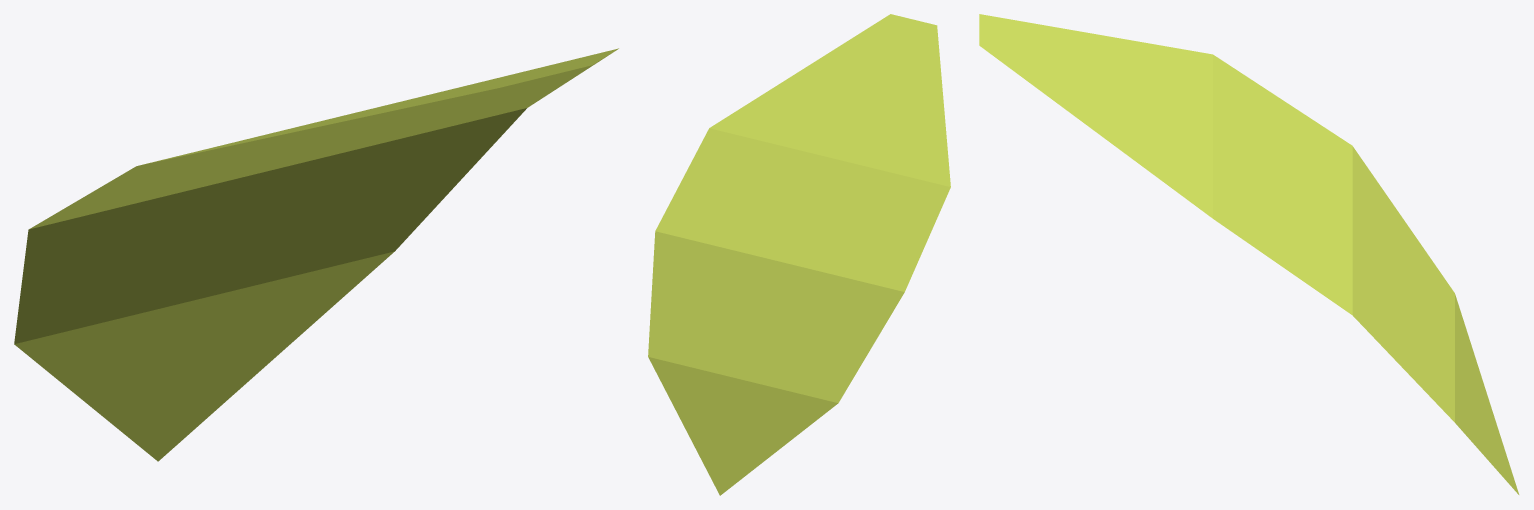
File: Leafs.fbx
The picture shows the model from 3 angles, left to right: view 1: azimuth 30°, elevation 25°; view 2: azimuth 150°, elevation 25°; view 3: azimuth 270°, elevation 25°; orthographic projection. The views are drawn at different scales.
Visible parts, largest first — view 1: leaf; view 2: leaf; view 3: leaf.
Part boxes in pixels (box(x1,y1,x2,y2)): leaf: box(14, 48, 618, 461); leaf: box(648, 14, 950, 495); leaf: box(979, 14, 1519, 494).
Bounding box in the file's own units: 9.17 × 6.82 × 8.73.
